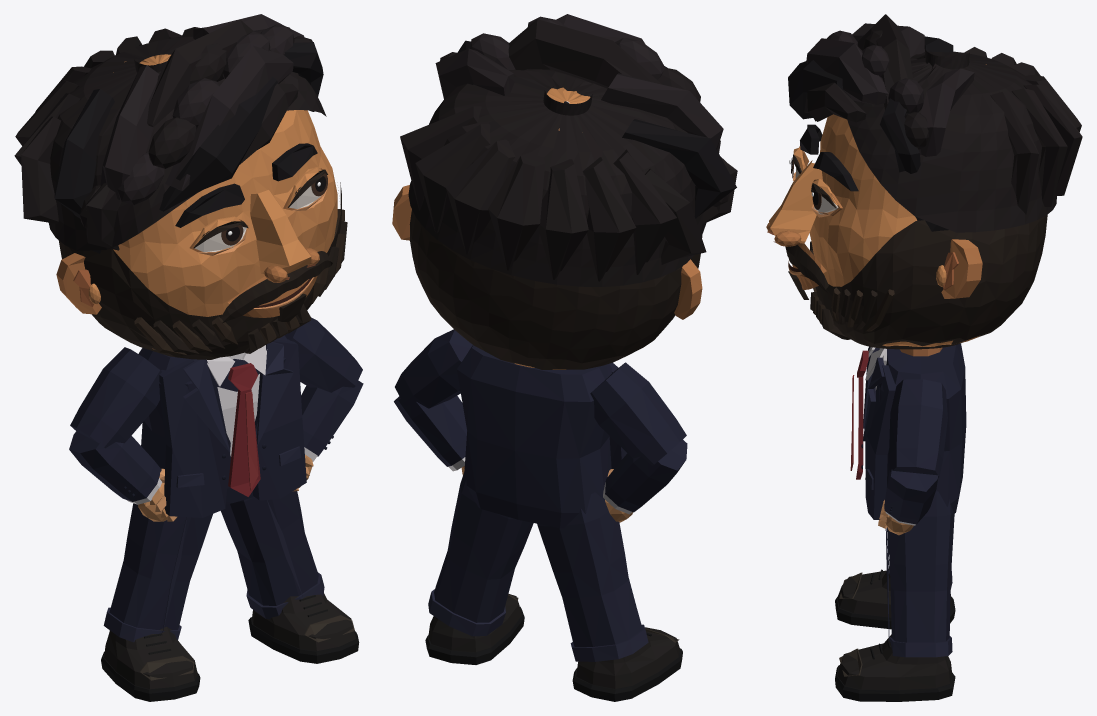
Rendered from mamdani-suit.glb.
3 views of the same model, side by side, from view 1: azimuth 30°, elevation 25°; view 2: azimuth 150°, elevation 25°; view 3: azimuth 270°, elevation 25° (orthographic). The views are drawn at different scales.
Parts seen in each view (by area): view 1: head-surface, body-surface, oxford-shoe-surface (×2), leg-right-surface, leg-left-surface, arm-right, forearm-right-surface, arm-left, forearm-left-surface, ear--1-surface, eye--1-surface, brow--1 (+3 smaller); view 2: head-surface, body-surface, leg-right-surface, leg-left-surface, oxford-shoe-surface (×2), arm-right, arm-left, forearm-right-surface, forearm-left-surface, ear--1-surface, ear-1-surface; view 3: head-surface, body-surface, leg-left-surface, oxford-shoe-surface (×2), arm-left, forearm-left-surface, ear-1-surface, eye-1-surface, brow-1, brow--1.
Part boxes in pixels (left/top/right/bottom): head-surface: left=14, top=14, right=347, bottom=359; body-surface: left=138, top=335, right=306, bottom=517; oxford-shoe-surface (×2): left=101, top=593, right=359, bottom=701; leg-right-surface: left=103, top=503, right=212, bottom=642; leg-left-surface: left=221, top=491, right=324, bottom=619; arm-right: left=70, top=347, right=161, bottom=448; forearm-right-surface: left=69, top=431, right=162, bottom=504; arm-left: left=285, top=317, right=362, bottom=392; forearm-left-surface: left=301, top=379, right=363, bottom=461; ear--1-surface: left=56, top=253, right=101, bottom=314; eye--1-surface: left=189, top=216, right=248, bottom=255; brow--1: left=175, top=183, right=244, bottom=227; head-surface: left=400, top=14, right=737, bottom=369; body-surface: left=457, top=345, right=627, bottom=528; leg-right-surface: left=537, top=492, right=648, bottom=661; leg-left-surface: left=428, top=472, right=533, bottom=636; oxford-shoe-surface (×2): left=425, top=594, right=682, bottom=701; arm-right: left=590, top=362, right=686, bottom=465; arm-left: left=395, top=329, right=472, bottom=408; forearm-right-surface: left=603, top=440, right=687, bottom=514; forearm-left-surface: left=394, top=396, right=466, bottom=471; ear--1-surface: left=674, top=259, right=702, bottom=319; ear-1-surface: left=392, top=185, right=411, bottom=240; head-surface: left=766, top=14, right=1082, bottom=349; body-surface: left=850, top=343, right=966, bottom=519; leg-left-surface: left=885, top=491, right=954, bottom=657; oxford-shoe-surface (×2): left=835, top=566, right=955, bottom=701; arm-left: left=889, top=379, right=947, bottom=477; forearm-left-surface: left=884, top=469, right=938, bottom=525; ear-1-surface: left=936, top=239, right=982, bottom=298; eye-1-surface: left=811, top=179, right=842, bottom=217; brow-1: left=813, top=152, right=858, bottom=191; brow--1: left=800, top=124, right=822, bottom=154.
Bounding box in the file's own units: 0.6237 × 1.18 × 0.547.
